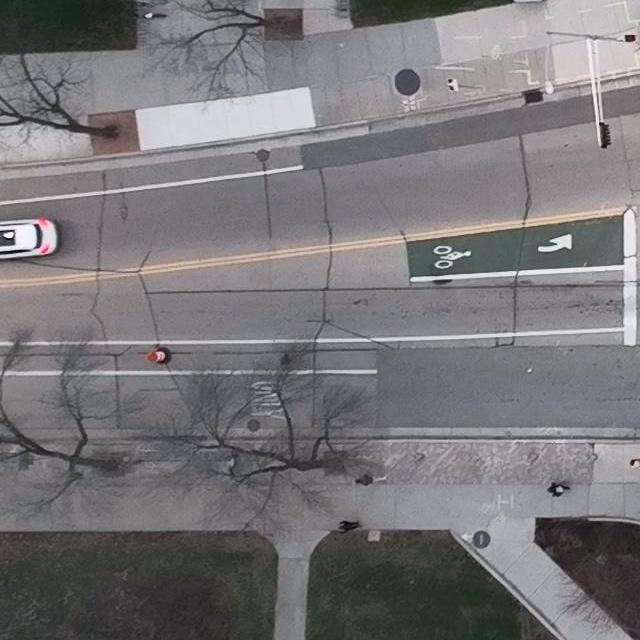car: (0, 218, 60, 261)
